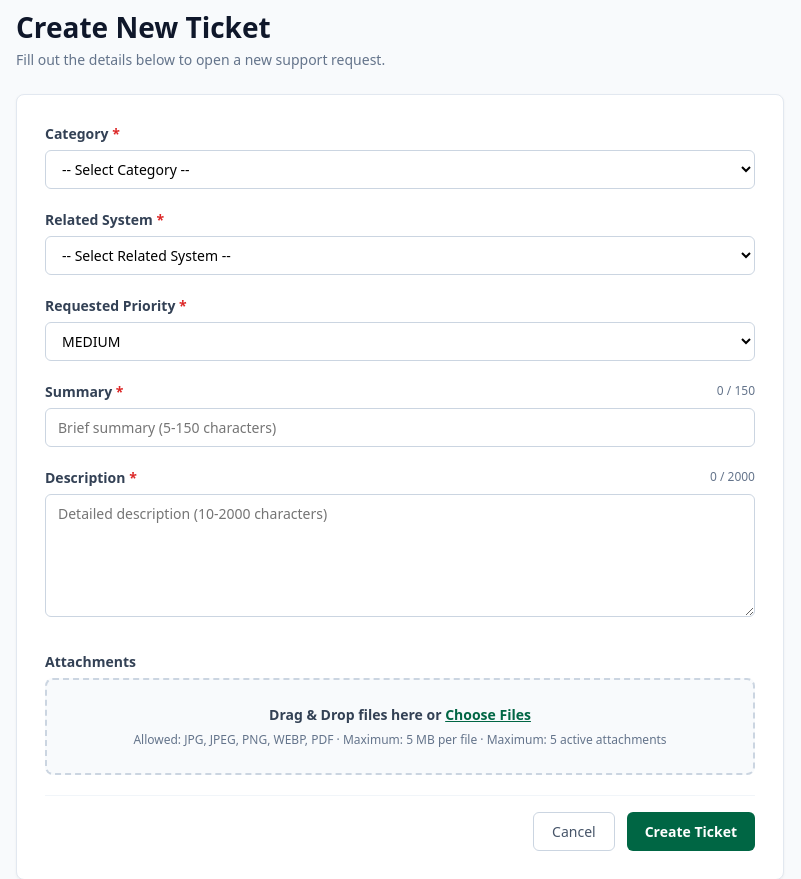
Create Ticket Screen Tests (Lab 2 — Section 12) › validates minimum length for summary and description
In the field with placeholder "Brief summary (5-150 characters)": (400, 427) [45,408,755,447], type "bad"
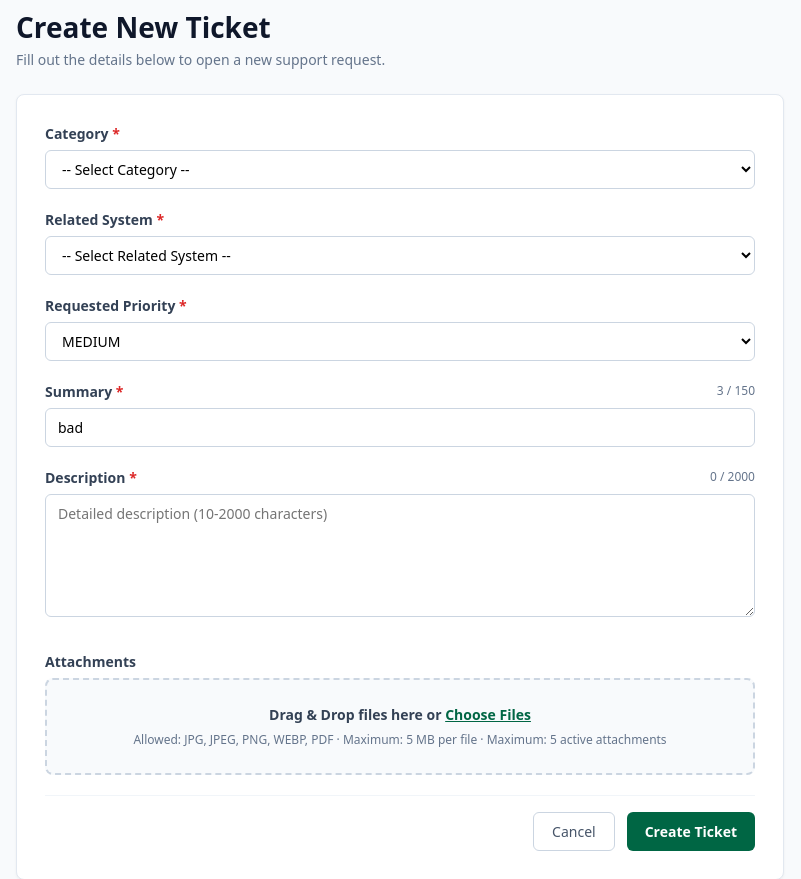
In the text box with placeholder "Detailed description (10-2000 characters)": (400, 555) [45,494,755,617], type "short"
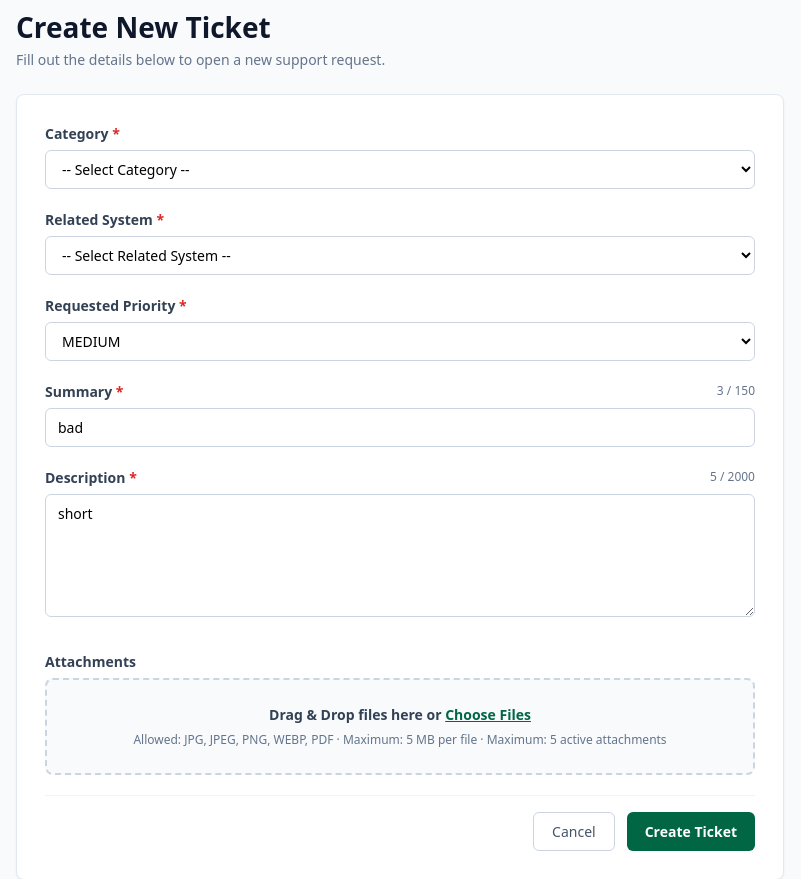
Click the button "Create Ticket": click(691, 831) [627,812,755,851]
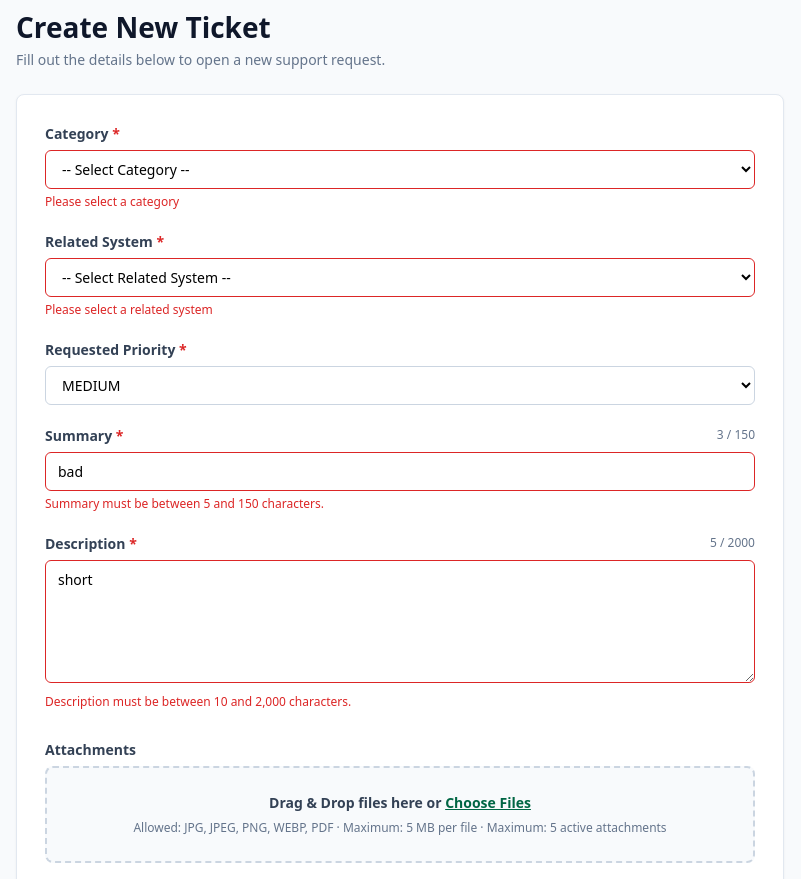
Now the text "Summary must be between 5 and 150 characters." is shown, box [45,495,324,512]
Now the text "Description must be between 10 and 2,000 characters." is shown, box [45,693,351,710]
